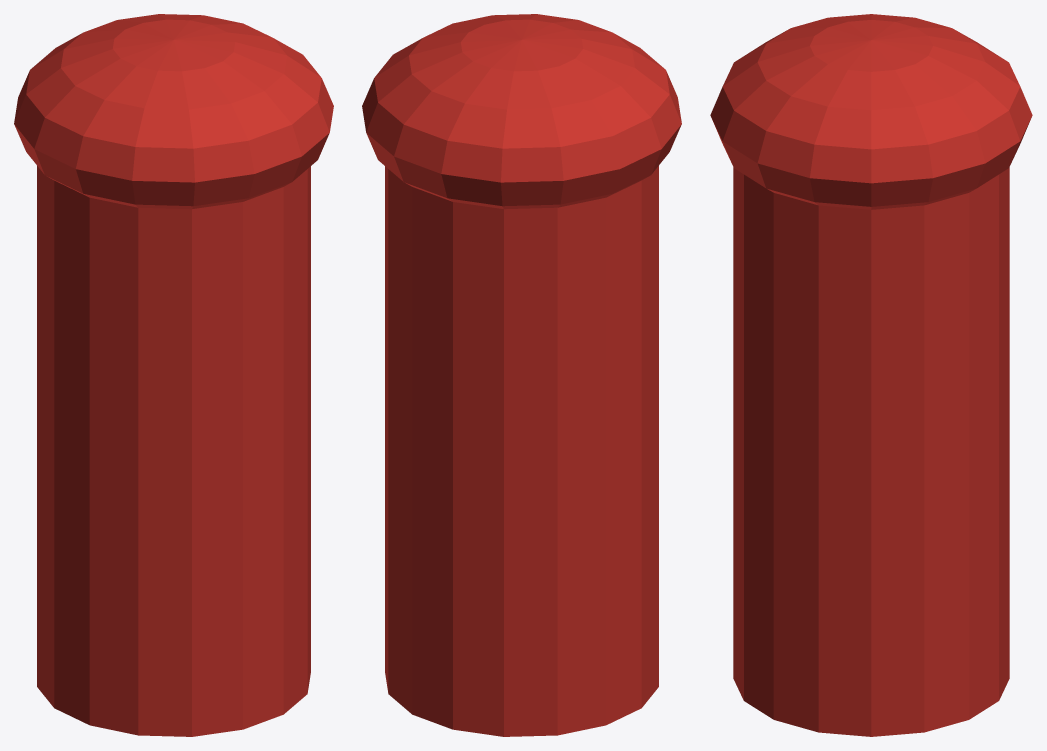
File: Prop_Street_003.glb
3 renders of one model, left to right at view 1: azimuth 30°, elevation 25°; view 2: azimuth 150°, elevation 25°; view 3: azimuth 270°, elevation 25°, orthographic.
Parts seen in each view (by area): view 1: Prop_Street_003; view 2: Prop_Street_003; view 3: Prop_Street_003.
Part boxes in pixels (box(x1,y1,x2,y2)): Prop_Street_003: box(14, 14, 333, 736); Prop_Street_003: box(362, 14, 681, 736); Prop_Street_003: box(710, 14, 1032, 736).
Bounding box in the file's own units: 0.7 × 1.53 × 0.7.
